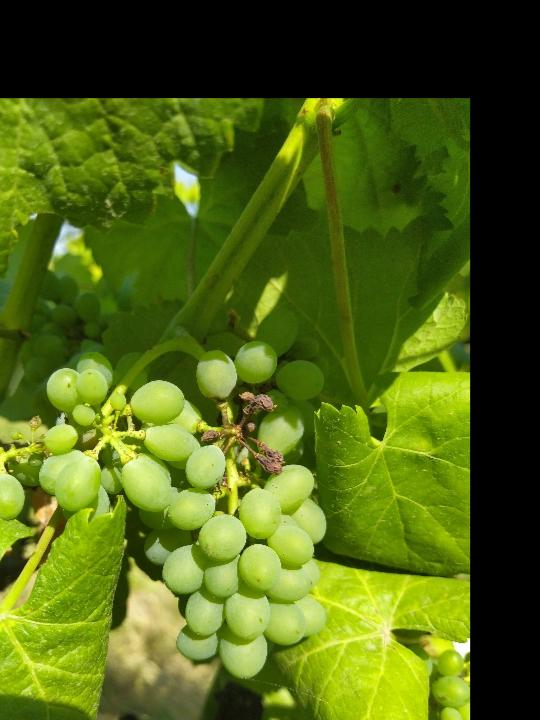grape: (0, 310, 334, 683)
